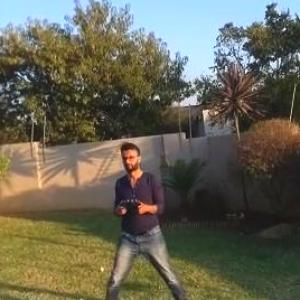follow: (103, 136, 188, 299)
